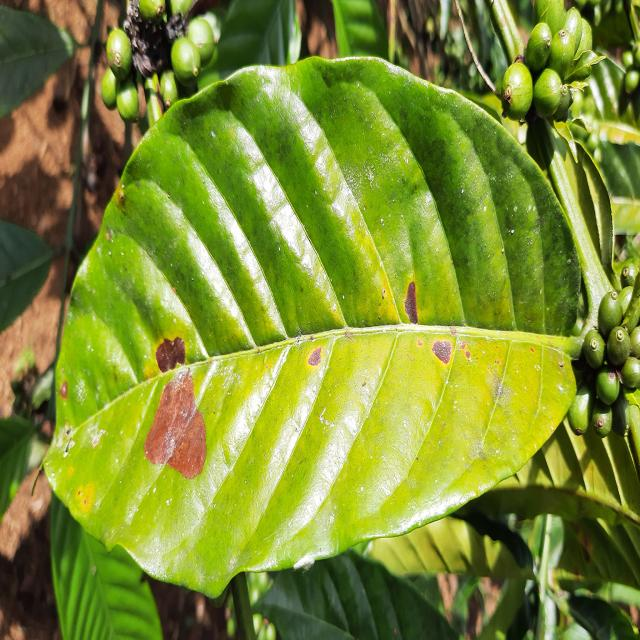Enfermedad-Mancha-de-hierro: (42, 54, 590, 640)
